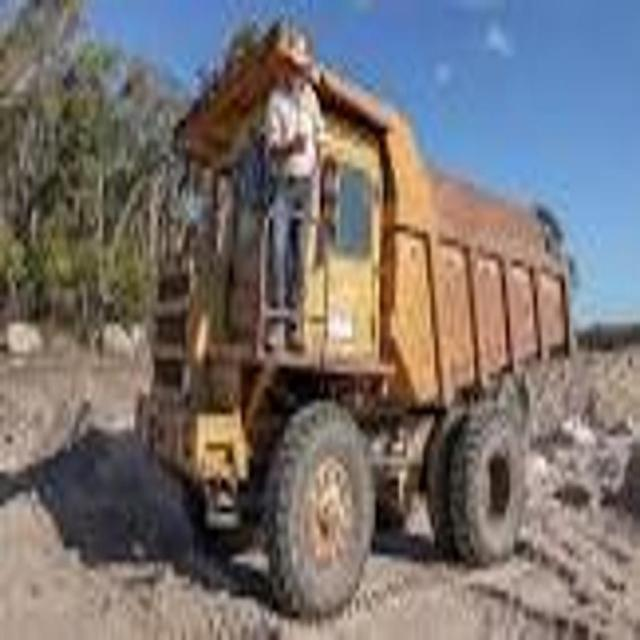dump_truck: (146, 15, 576, 612)
